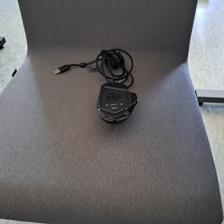mouse: (95, 82, 137, 124)
